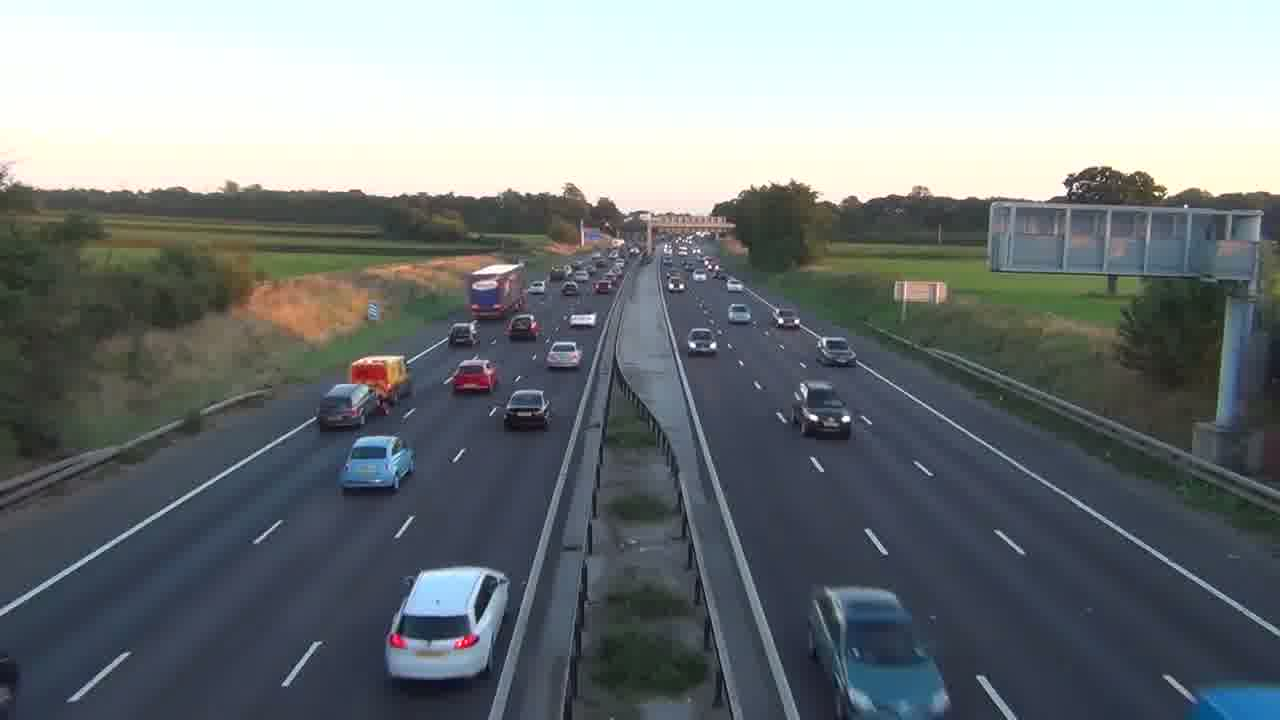car: (384, 564, 511, 685), (338, 434, 415, 494), (318, 383, 377, 430), (798, 396, 852, 439), (504, 388, 551, 431), (447, 358, 497, 394), (815, 336, 857, 367), (545, 339, 582, 371), (505, 313, 541, 341), (688, 327, 718, 355), (727, 303, 753, 324)
truck: (807, 584, 950, 719)
